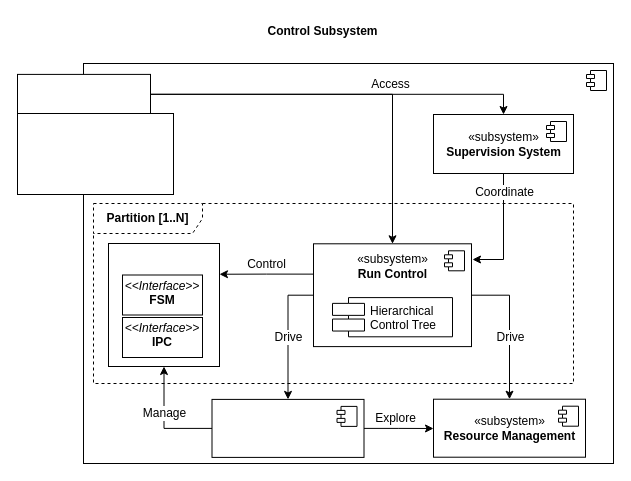
Some shapes in this 631 by 481 pixel diagram are drawn without their labels. Here are the shapes that lost their labels. From the top down, the box of each, then its label:
(16, 73, 150, 114): <<Interface>> Control interface
(16, 112, 174, 194): <<Interface>> User Interfaces + Graphical Interface + Command Line Interface
(108, 242, 220, 366): DAQ Application
(211, 398, 364, 457): «subsystem» Process Management
